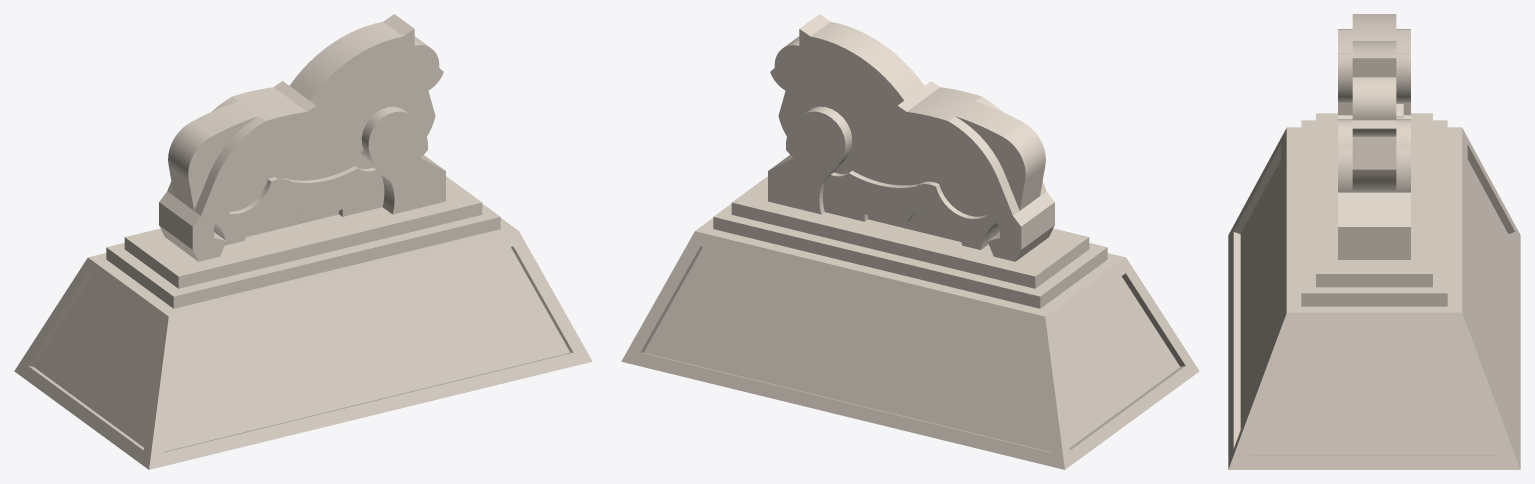
Rendered from LION OF BABYLON.glb.
The picture shows the model from 3 angles, left to right: view 1: azimuth 30°, elevation 25°; view 2: azimuth 150°, elevation 25°; view 3: azimuth 270°, elevation 25°; orthographic projection. The views are drawn at different scales.
Visible parts, largest first — view 1: Geom3D; view 2: Geom3D; view 3: Geom3D.
Boxes of the visible parts, x1,y1,x2,y2 form: Geom3D: [14, 14, 592, 469]; Geom3D: [621, 14, 1199, 469]; Geom3D: [1228, 14, 1520, 469].
Size of the model in its own units: 3.8 by 2.62 by 2.
